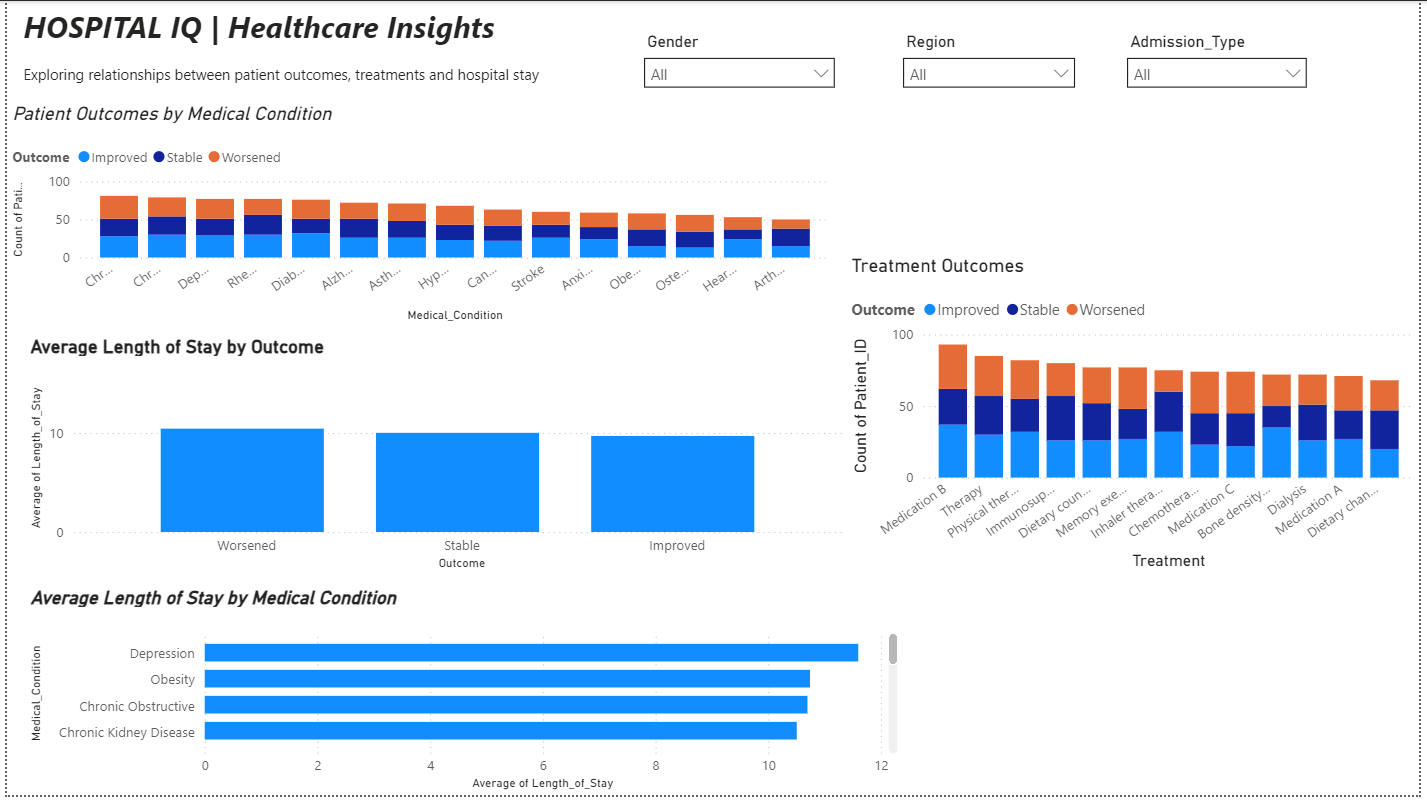

The dashboard page shown, as its layout file describes it:
{"tool":"powerbi","page":{"name":"HealthcareInsights","canvas":[1280,720],"ordinal":1},"visuals":[{"type":"textbox","box":[10,0,750.8,81.6],"z":0},{"type":"columnChart","title":"Patient Outcomes by Medical Condition","fields":{"Category":["Patients.Medical_Condition"],"Y":["CountNonNull(Patients.Patient_ID)"],"Series":["Patients.Outcome"]},"box":[0,91.6,750.8,204],"z":1000},{"type":"clusteredColumnChart","title":"Average Length of Stay by Outcome","fields":{"Category":["Patients.Outcome"],"Y":["Avg(Patients.Length_of_Stay)"]},"box":[16.3,302.9,752.6,217.6],"z":2000},{"type":"clusteredBarChart","title":"Average Length of Stay by Medical Condition","fields":{"Category":["Patients.Medical_Condition"],"Y":["Avg(Patients.Length_of_Stay)"]},"box":[16.3,530.5,796.2,189.5],"z":3000},{"type":"columnChart","title":"Treatment Outcomes","fields":{"Category":["Patients.Treatment"],"Series":["Patients.Outcome"],"Y":["CountNonNull(Patients.Patient_ID)"]},"box":[760.8,229.4,519.6,291.1],"z":4000},{"type":"slicer","fields":{"Values":["Patients.Gender"]},"box":[567.7,23.6,193.1,58],"z":5000},{"type":"slicer","fields":{"Values":["Patients.Region"]},"box":[802.5,23.6,175.9,76.2],"z":6000},{"type":"slicer","fields":{"Values":["Patients.Admission_Type"]},"box":[1005.6,23.6,183.2,58],"z":7000}]}

Visuals, with their boxes in screenshot pixels (x1, y1, x2, y2), scaled from the page's 1280x720 canvas onto the 1427x801 screenshot:
textbox: x1=11 y1=0 x2=848 y2=91
"Patient Outcomes by Medical Condition" columnChart: x1=0 y1=102 x2=837 y2=329
"Average Length of Stay by Outcome" clusteredColumnChart: x1=18 y1=337 x2=857 y2=579
"Average Length of Stay by Medical Condition" clusteredBarChart: x1=18 y1=590 x2=906 y2=800
"Treatment Outcomes" columnChart: x1=848 y1=255 x2=1426 y2=579
slicer - Patients.Gender: x1=633 y1=26 x2=848 y2=91
slicer - Patients.Region: x1=895 y1=26 x2=1091 y2=111
slicer - Patients.Admission_Type: x1=1121 y1=26 x2=1325 y2=91
